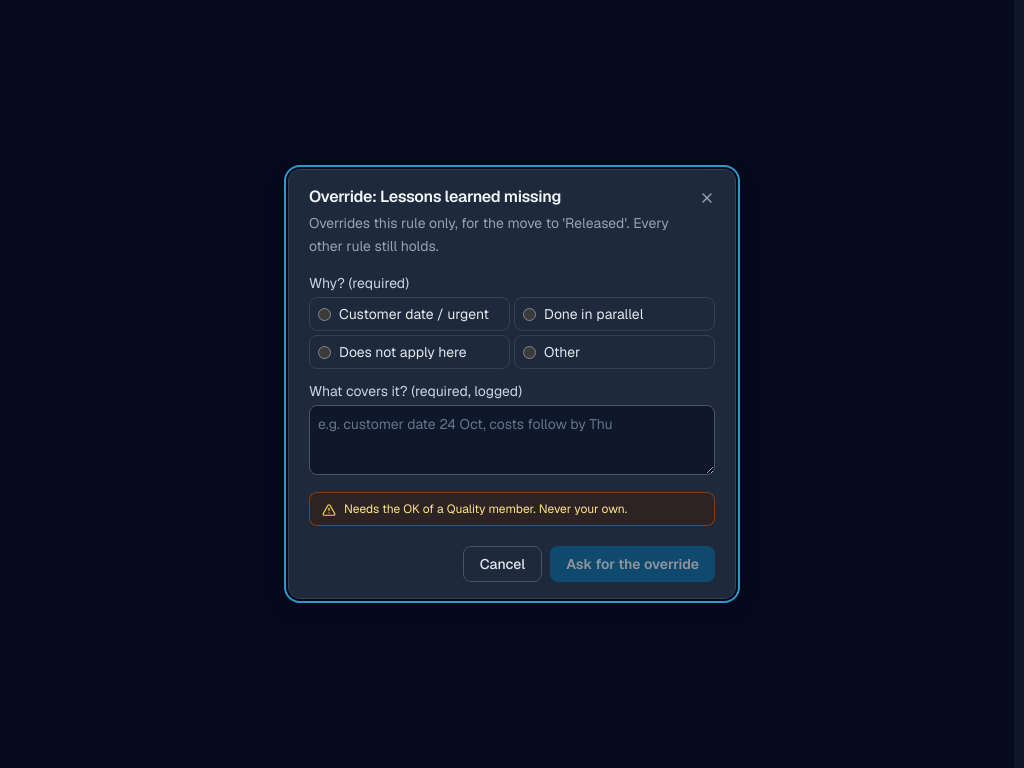
it: OverrideDialog › needs a reason pick and a note, says whose OK, binds the rule
The image size is (1024, 768).
Later steps or results of the test are not shown.
Expected: the element with test id "override-needs" shows "a Quality member", [344,501,627,517]
Type "lessons on Friday" into the text box with test id "override-note" at [512, 440], box [309,405,715,475]
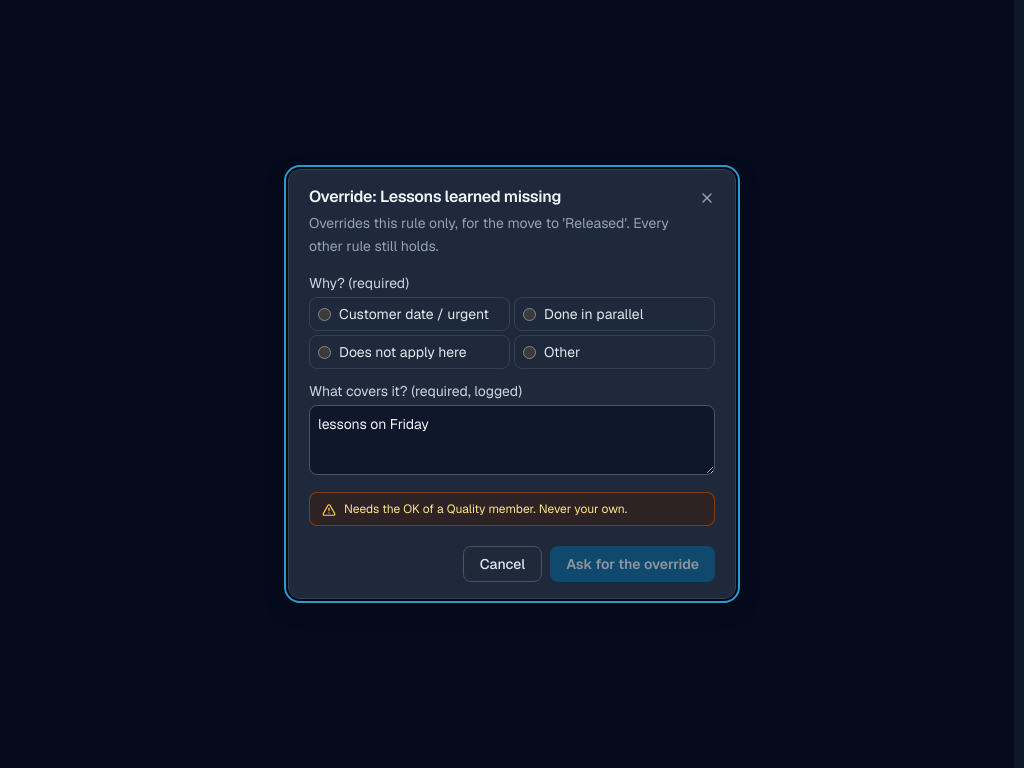
Expected: the button with test id "override-submit" is disabled, [550,546,715,582]
Click the radio button with test id "override-reason-in_parallel" at [530, 314], box [523,308,536,321]
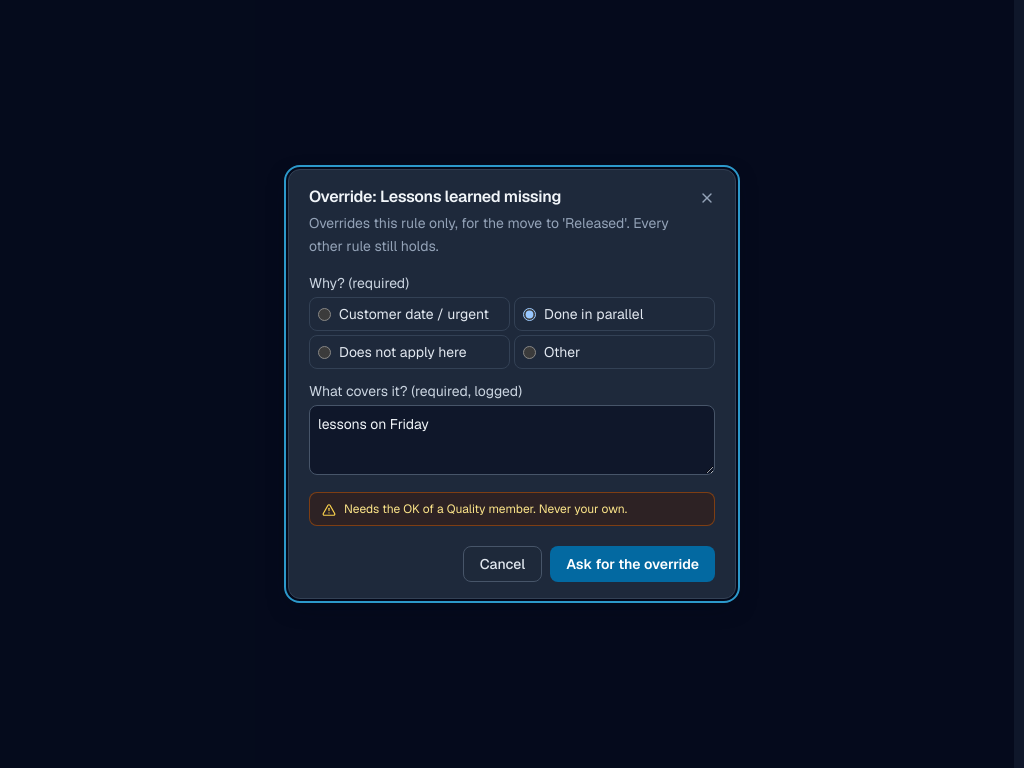
Expected: the button with test id "override-submit" is enabled, [550,546,715,582]
